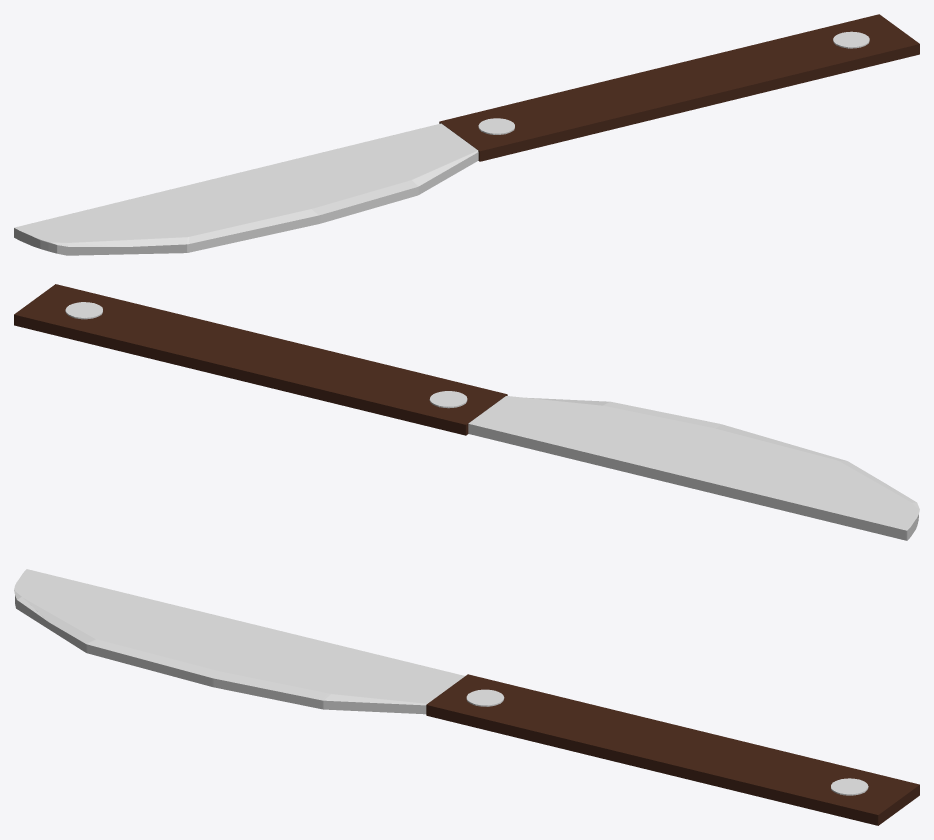
The model's file is Kitchen_SmallProps_Knife.fbx.
3 renders of one model, top to bottom at view 1: azimuth 30°, elevation 25°; view 2: azimuth 150°, elevation 25°; view 3: azimuth 330°, elevation 25°, orthographic. The views are drawn at different scales.
Visible parts, largest first — view 1: Knife, Handle; view 2: Knife, Handle; view 3: Knife, Handle.
Part boxes in pixels (bbox=[...]): Knife: bbox=[14, 14, 919, 255]; Handle: bbox=[483, 26, 877, 139]; Knife: bbox=[14, 284, 919, 540]; Handle: bbox=[57, 296, 468, 430]; Knife: bbox=[14, 569, 919, 825]; Handle: bbox=[469, 686, 874, 814].
Bounding box in the file's own units: 27.42 × 0.4 × 3.53.
